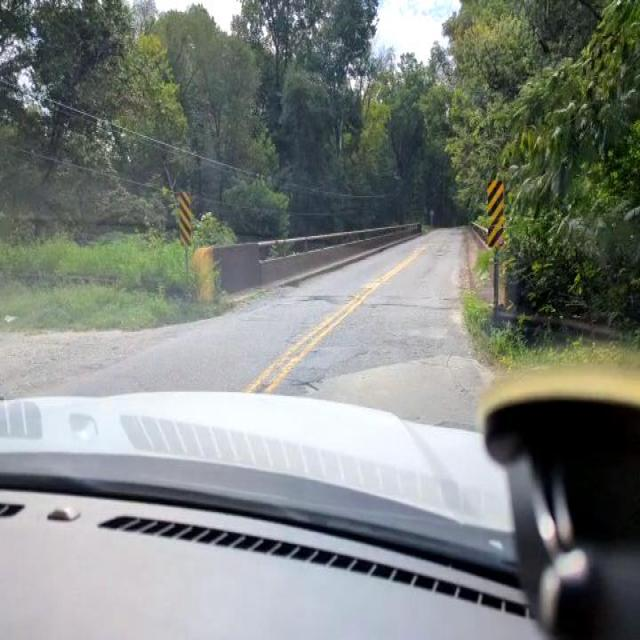pothole: (304, 287, 346, 313), (298, 379, 324, 396)
